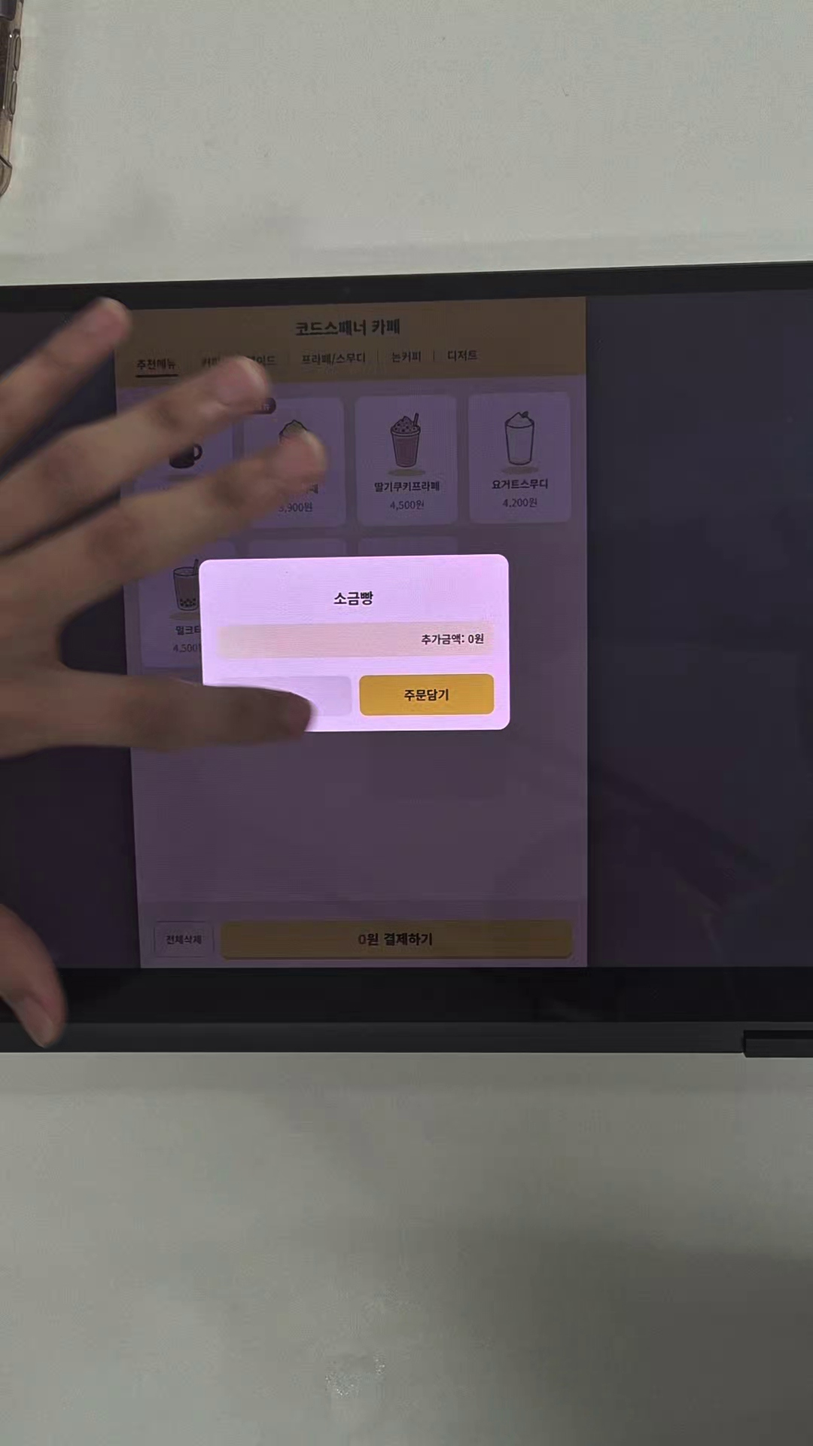action_button: (359, 672, 495, 719), (218, 674, 350, 720)
popup_modal: (200, 555, 510, 731)
